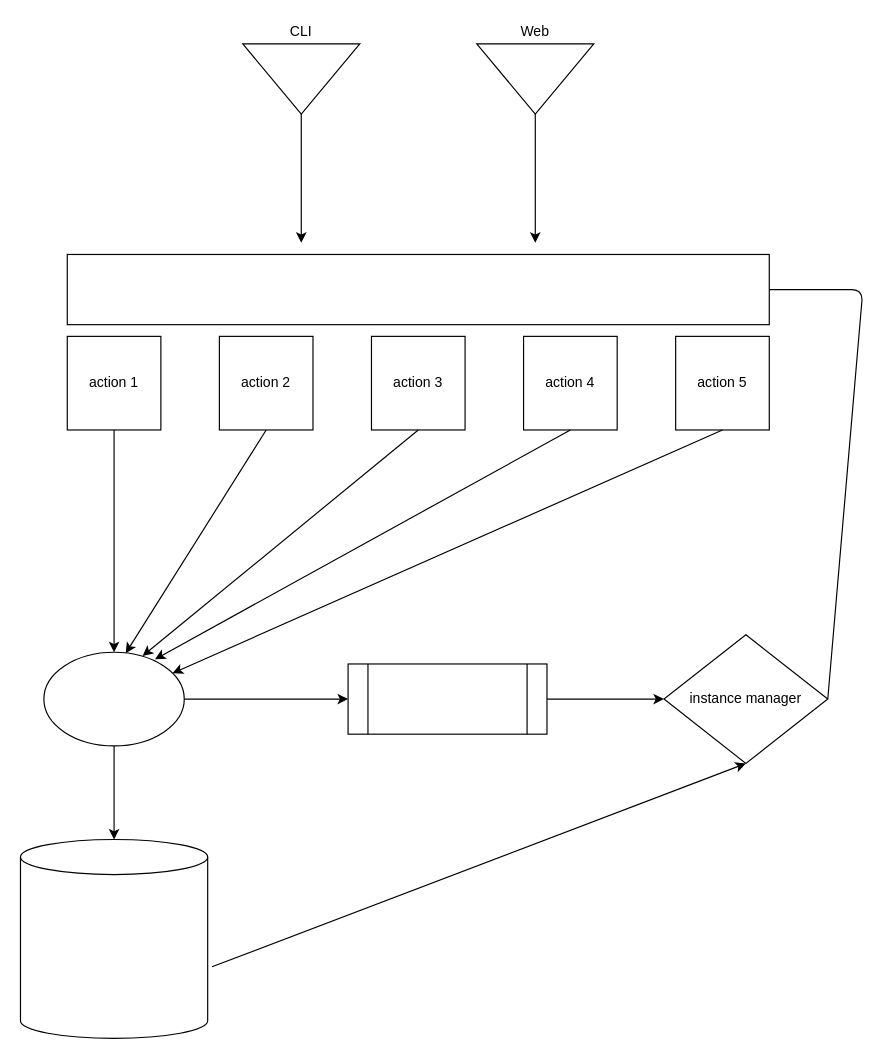
Some shapes in this 885 by 1059 pixel diagram are drawn without their labels. The centre of each missing label's shape, as x and y in pixels:
"API" goes at (x=417, y=289).
"event store" goes at (x=113, y=938).
"handlers" goes at (x=113, y=698).
"message broker" goes at (x=447, y=698).
